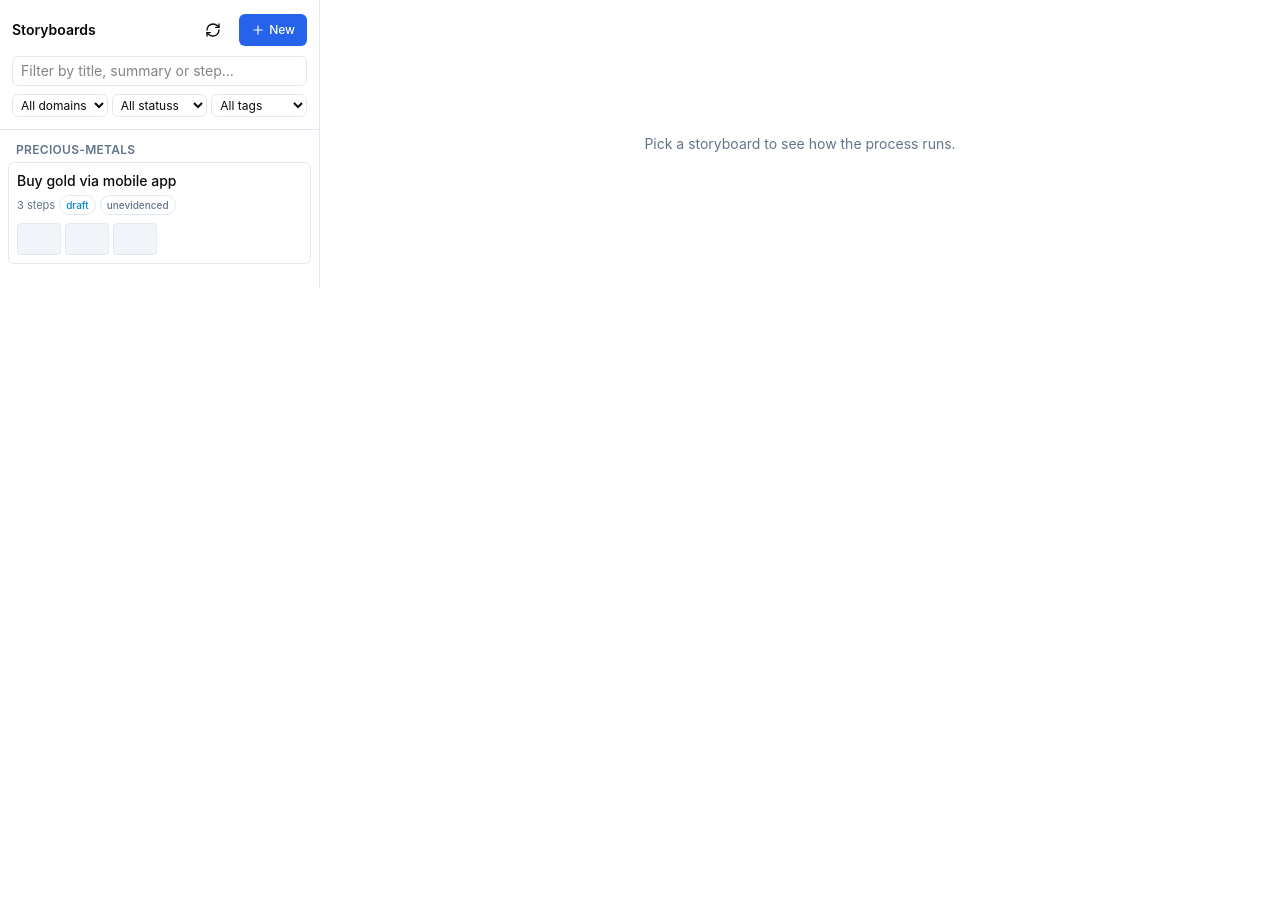
Test case: Presentation mode › can overlay the alternate paths of a step
Click the button "Buy gold via mobile app 3 steps draft unevidenced". click: (160, 213)
box: top-left (8, 162), bottom-right (311, 264)
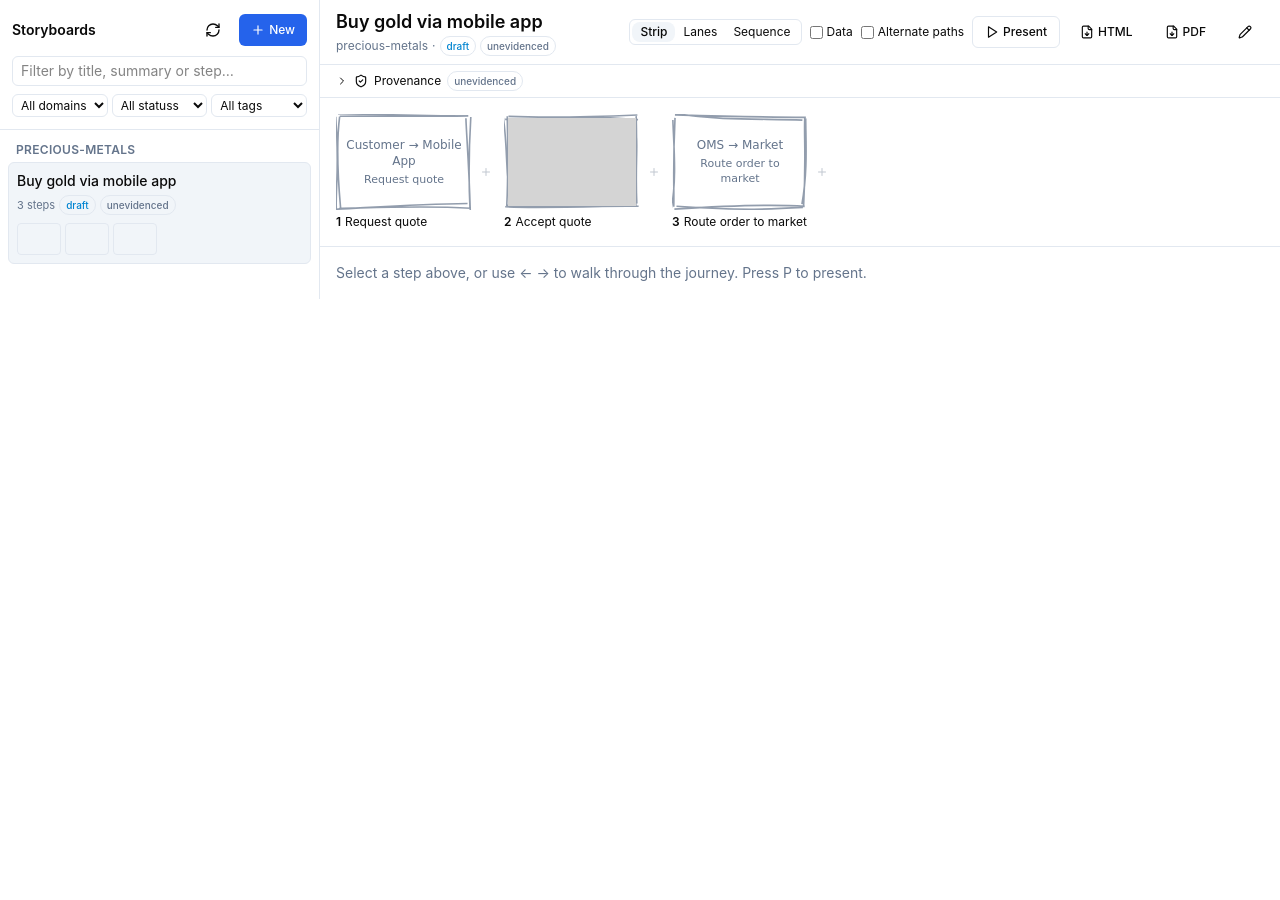
Click the button "Present". click: (1016, 32)
box: top-left (972, 16), bottom-right (1060, 48)
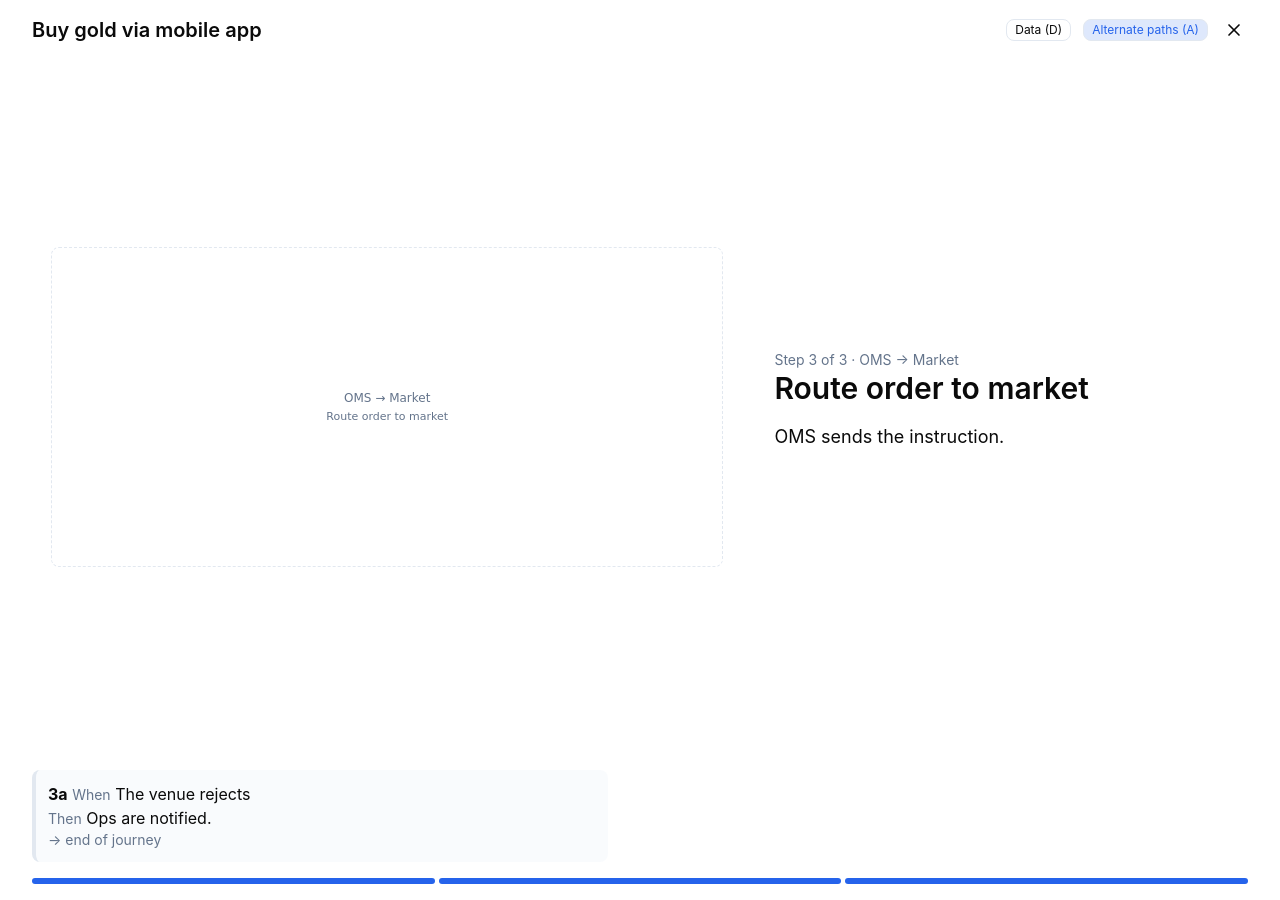
Expected: the element with test id "presentation-extensions" shows "3a", top-left (48, 784), bottom-right (68, 804)
